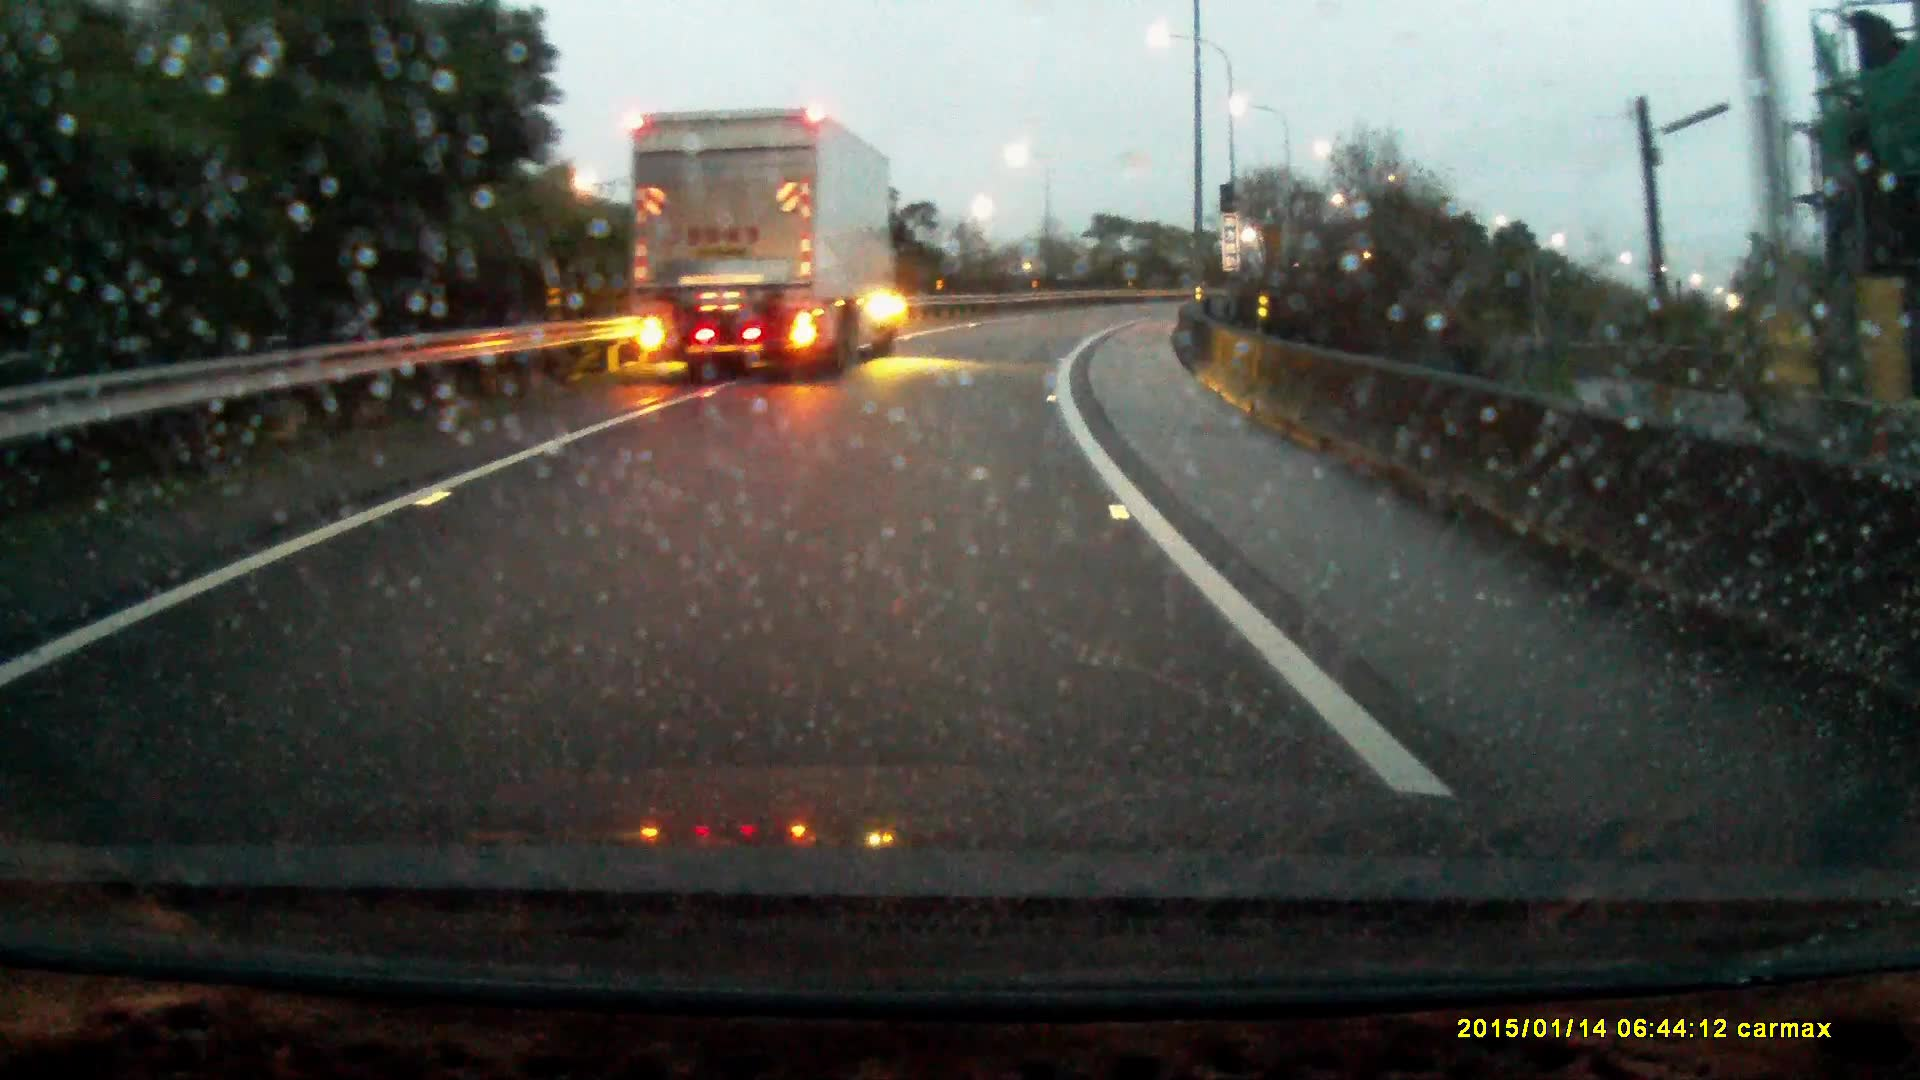vehicle: (622, 105, 906, 382)
